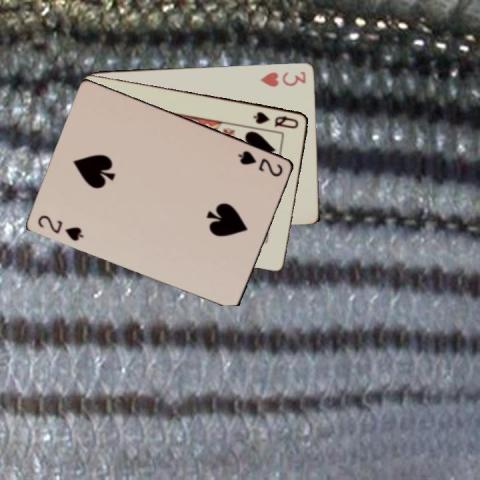2s: (34, 211, 84, 243), (235, 147, 285, 178)
3h: (258, 68, 307, 87)
Qs: (250, 109, 300, 130)
